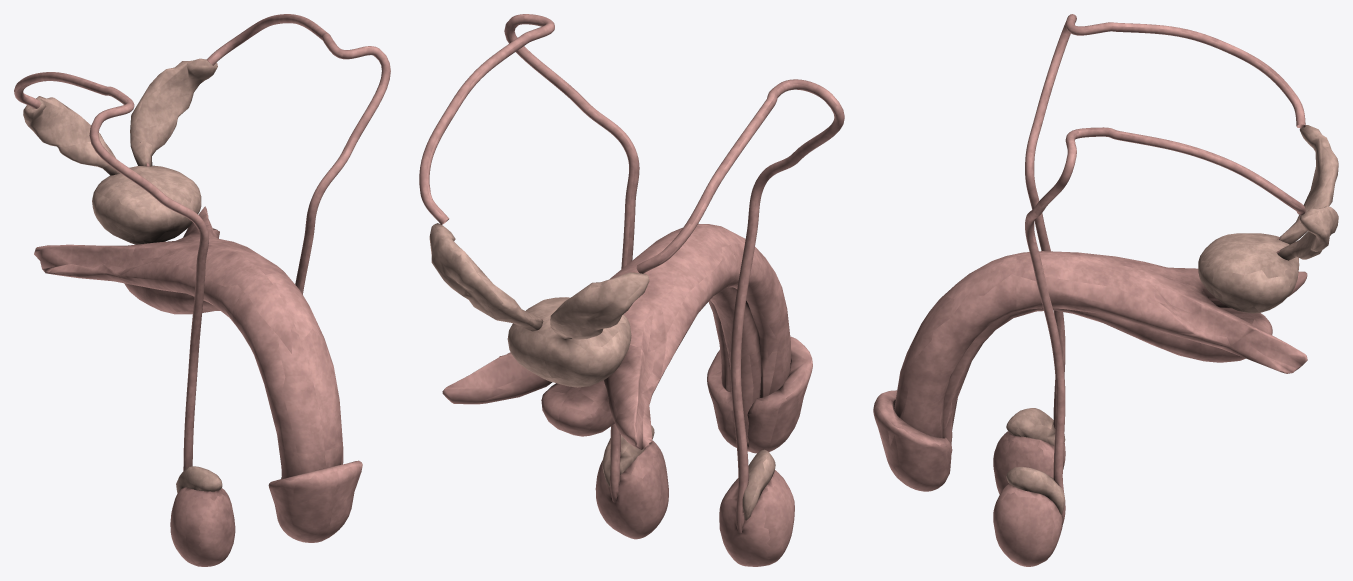
File: reproductive.opt.glb
The picture shows the model from 3 angles, left to right: view 1: azimuth 30°, elevation 25°; view 2: azimuth 150°, elevation 25°; view 3: azimuth 270°, elevation 25°; orthographic projection. The views are drawn at different scales.
Visible parts, largest first — view 1: corpus-cavernosum-of-penis, prostate, ductus-deferens-r, glans-penis, seminal-gland-l, ductus-deferens-l, testis-r, seminal-gland-r, corpus-spongiosum-of-penis, epididymis-r; view 2: corpus-cavernosum-of-penis, ductus-deferens-r, ductus-deferens-l, prostate, corpus-spongiosum-of-penis, glans-penis, testis-r, testis-l, seminal-gland-l, seminal-gland-r, epididymis-r, epididymis-l; view 3: corpus-cavernosum-of-penis, prostate, ductus-deferens-l, ductus-deferens-r, corpus-spongiosum-of-penis, glans-penis, testis-l, seminal-gland-r, testis-r, seminal-gland-l, epididymis-l, epididymis-r.
Boxes of the visible parts, left/top/right/bottom form: corpus-cavernosum-of-penis: left=34, top=206, right=343, bottom=479; prostate: left=92, top=165, right=201, bottom=244; ductus-deferens-r: left=14, top=72, right=209, bottom=470; glans-penis: left=268, top=460, right=362, bottom=542; seminal-gland-l: left=130, top=58, right=217, bottom=166; ductus-deferens-l: left=206, top=14, right=390, bottom=294; testis-r: left=170, top=487, right=235, bottom=566; seminal-gland-r: left=23, top=96, right=119, bottom=175; corpus-spongiosum-of-penis: left=124, top=283, right=220, bottom=314; epididymis-r: left=176, top=466, right=222, bottom=493; corpus-cavernosum-of-penis: left=442, top=223, right=790, bottom=449; ductus-deferens-r: left=636, top=79, right=844, bottom=533; ductus-deferens-l: left=419, top=14, right=639, bottom=503; prostate: left=507, top=297, right=631, bottom=387; corpus-spongiosum-of-penis: left=541, top=287, right=761, bottom=447; glans-penis: left=707, top=336, right=812, bottom=453; testis-r: left=719, top=470, right=794, bottom=566; testis-l: left=595, top=440, right=668, bottom=539; seminal-gland-l: left=429, top=223, right=543, bottom=331; seminal-gland-r: left=550, top=272, right=649, bottom=339; epididymis-r: left=742, top=449, right=775, bottom=520; epididymis-l: left=602, top=425, right=654, bottom=486; corpus-cavernosum-of-penis: left=894, top=251, right=1307, bottom=438; prostate: left=1198, top=233, right=1299, bottom=313; ductus-deferens-l: left=1025, top=127, right=1305, bottom=524; ductus-deferens-r: left=1025, top=14, right=1305, bottom=468; corpus-spongiosum-of-penis: left=942, top=307, right=1272, bottom=474; glans-penis: left=873, top=390, right=952, bottom=491; testis-l: left=993, top=483, right=1062, bottom=566; seminal-gland-r: left=1279, top=125, right=1338, bottom=244; testis-r: left=993, top=431, right=1063, bottom=494; seminal-gland-l: left=1277, top=206, right=1338, bottom=260; epididymis-l: left=1006, top=467, right=1065, bottom=514; epididymis-r: left=1006, top=408, right=1065, bottom=445.
Bounding box in the file's own units: 0.1123 × 0.1654 × 0.151.
2 materials, 2 textured.
